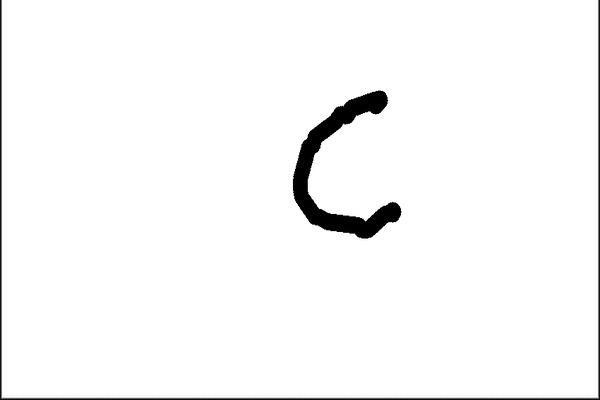C: (289, 83, 408, 243)
